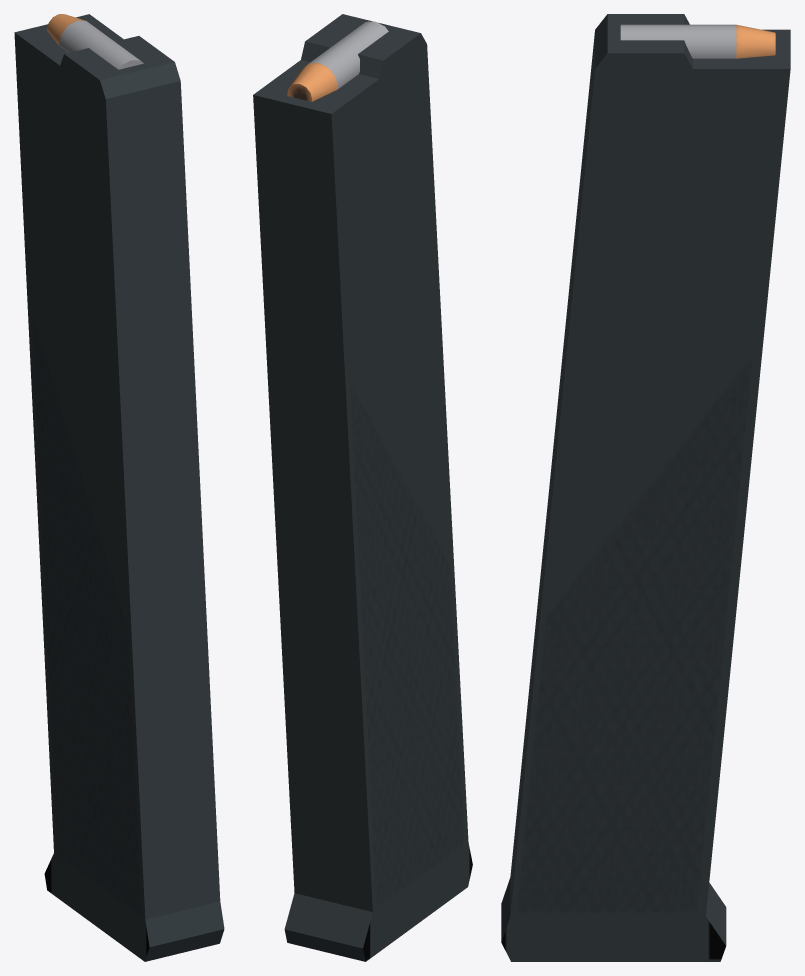
Rendered from hc_pistol_magazine.obj.
3 views of the same model, side by side, from view 1: azimuth 30°, elevation 25°; view 2: azimuth 150°, elevation 25°; view 3: azimuth 270°, elevation 25° (orthographic). The views are drawn at different scales.
Parts seen in each view (by area): view 1: Magazine; view 2: Magazine; view 3: Magazine.
Boxes of the visible parts, <box> form: Magazine: <box>14,14,224,961</box>; Magazine: <box>253,14,472,961</box>; Magazine: <box>501,14,790,961</box>.
Bounding box in the file's own units: 0.0672 × 0.7327 × 0.2098.
1 material, 1 textured.
